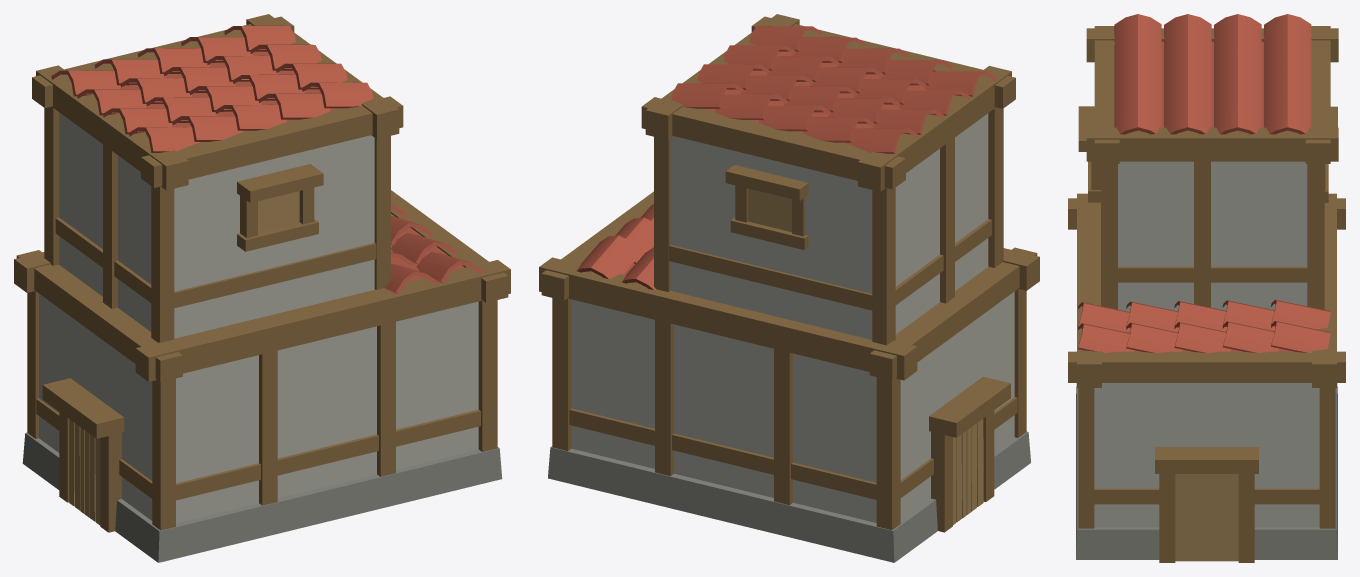
Rendered from house-2.glb.
The picture shows the model from 3 angles, left to right: view 1: azimuth 30°, elevation 25°; view 2: azimuth 150°, elevation 25°; view 3: azimuth 270°, elevation 25°; orthographic projection. The views are drawn at different scales.
Parts seen in each view (by area): view 1: Houses_SecondAge_3_Level3; view 2: Houses_SecondAge_3_Level3; view 3: Houses_SecondAge_3_Level3.
Part boxes in pixels (left/top/right/bottom): Houses_SecondAge_3_Level3: left=14, top=14, right=510, bottom=562; Houses_SecondAge_3_Level3: left=539, top=14, right=1039, bottom=562; Houses_SecondAge_3_Level3: left=1068, top=14, right=1345, bottom=562.
Bounding box in the file's own units: 1.05 × 1.06 × 0.6765.
